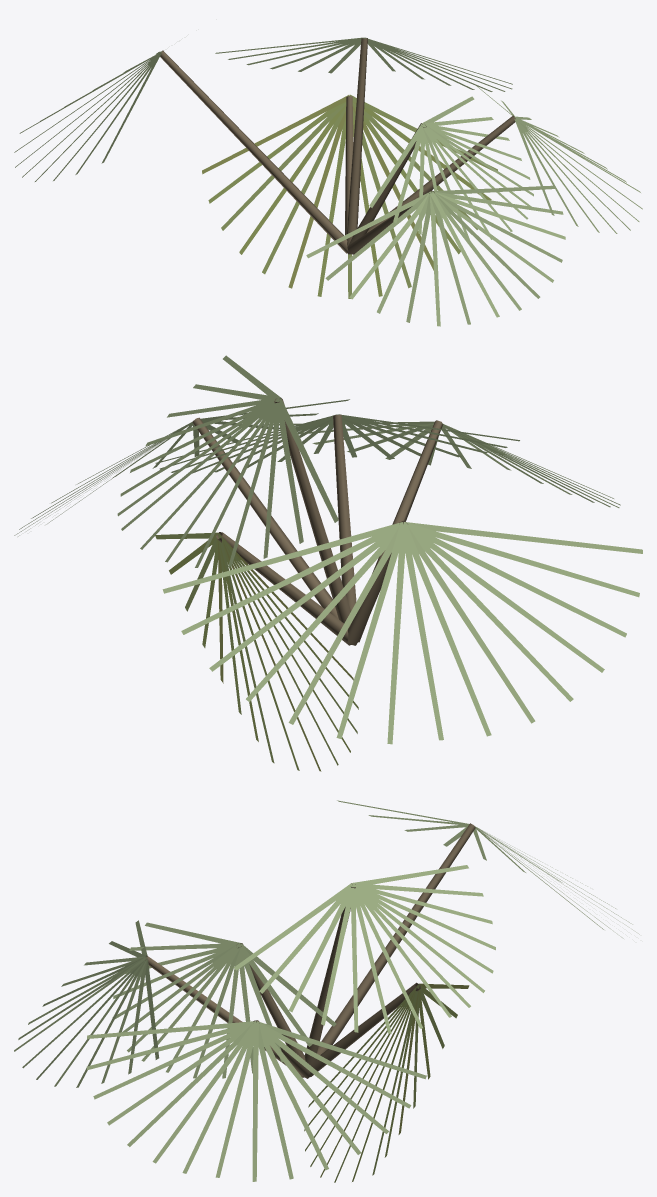
Rendered from palmetto_b.glb.
3 views of the same model, one above another, from view 1: azimuth 30°, elevation 25°; view 2: azimuth 150°, elevation 25°; view 3: azimuth 270°, elevation 25° (orthographic). The views are drawn at different scales.
Visible parts, largest first — view 1: palmetto_b; view 2: palmetto_b; view 3: palmetto_b.
Part boxes in pixels (left/top/right/bottom): palmetto_b: left=14, top=37, right=642, bottom=326; palmetto_b: left=14, top=355, right=642, bottom=771; palmetto_b: left=14, top=800, right=639, bottom=1182.
Bounding box in the file's own units: 1.99 × 1.01 × 1.95.
